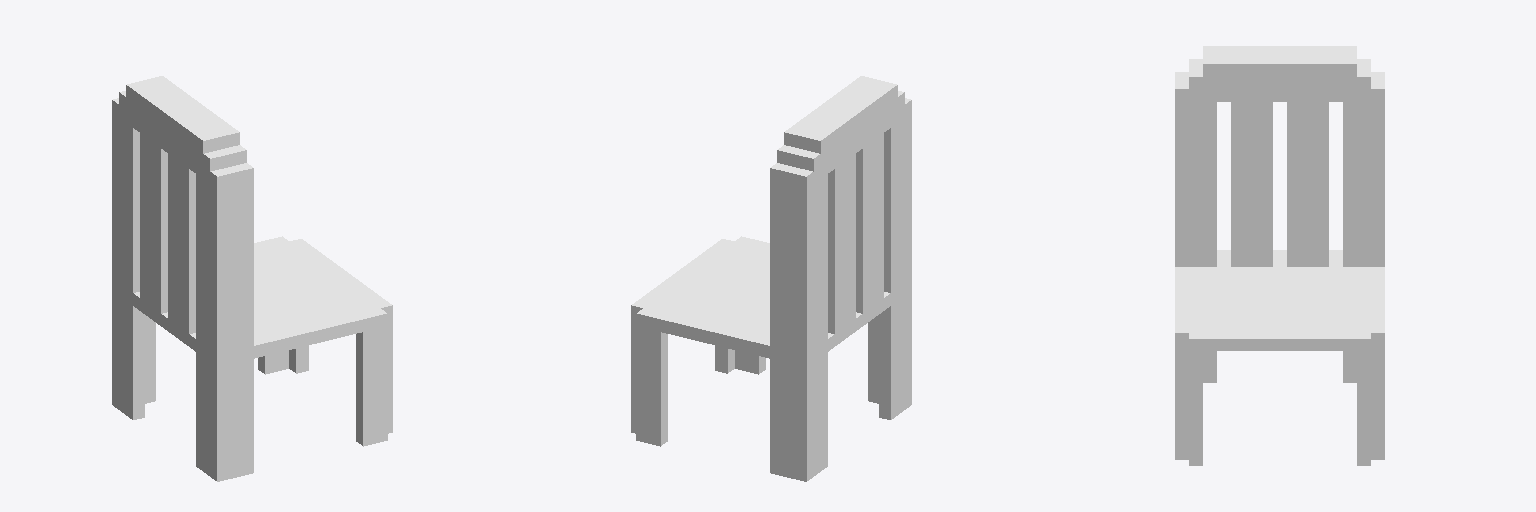
File: KitchenChair.obj
The picture shows the model from 3 angles: view 1: azimuth 30°, elevation 25°; view 2: azimuth 150°, elevation 25°; view 3: azimuth 270°, elevation 25°; orthographic projection.
Parts seen in each view (by area): view 1: KitchenChair.002; view 2: KitchenChair.002; view 3: KitchenChair.002.
Part boxes in pixels (left/top/right/bottom): KitchenChair.002: left=112, top=76, right=392, bottom=481; KitchenChair.002: left=631, top=76, right=911, bottom=481; KitchenChair.002: left=1175, top=46, right=1384, bottom=465.
Size of the model in its own units: 1.5 by 2.6 by 1.5.